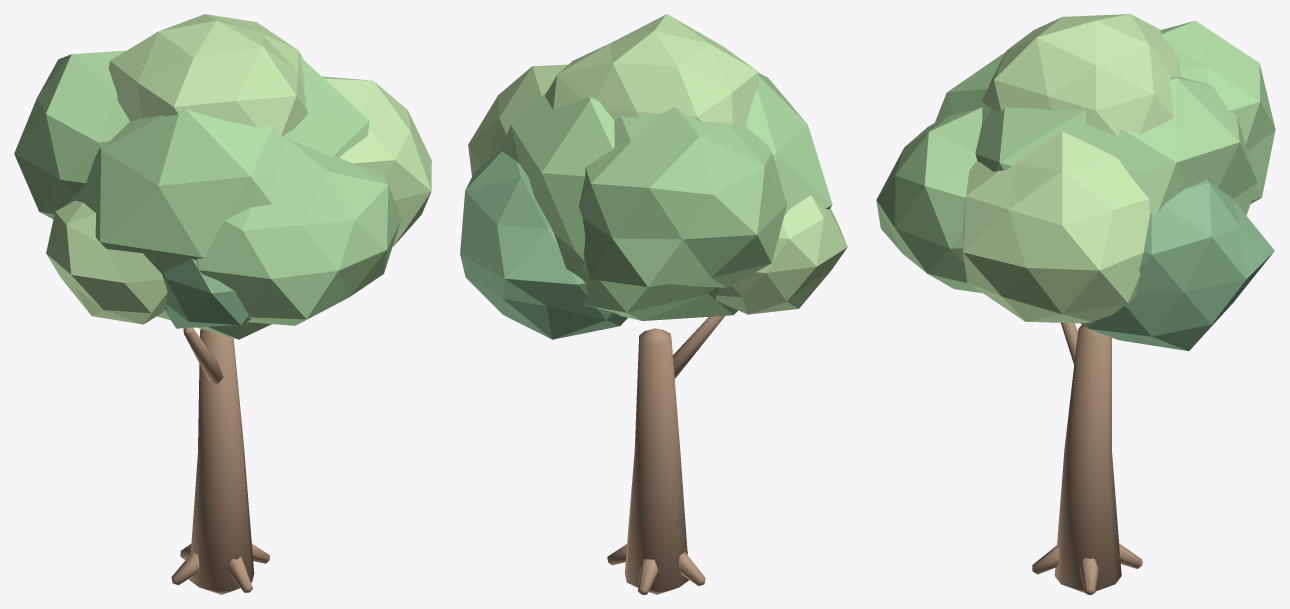
The model's file is tree_round_b.glb.
The picture shows the model from 3 angles, left to right: view 1: azimuth 30°, elevation 25°; view 2: azimuth 150°, elevation 25°; view 3: azimuth 270°, elevation 25°; orthographic projection.
Visible parts, largest first — view 1: tree_round_b; view 2: tree_round_b; view 3: tree_round_b.
Boxes of the visible parts, x1,y1,x2,y2 form: tree_round_b: [14, 14, 431, 594]; tree_round_b: [460, 14, 847, 594]; tree_round_b: [876, 14, 1275, 594].
Size of the model in its own units: 2.95 by 4.53 by 2.86.
